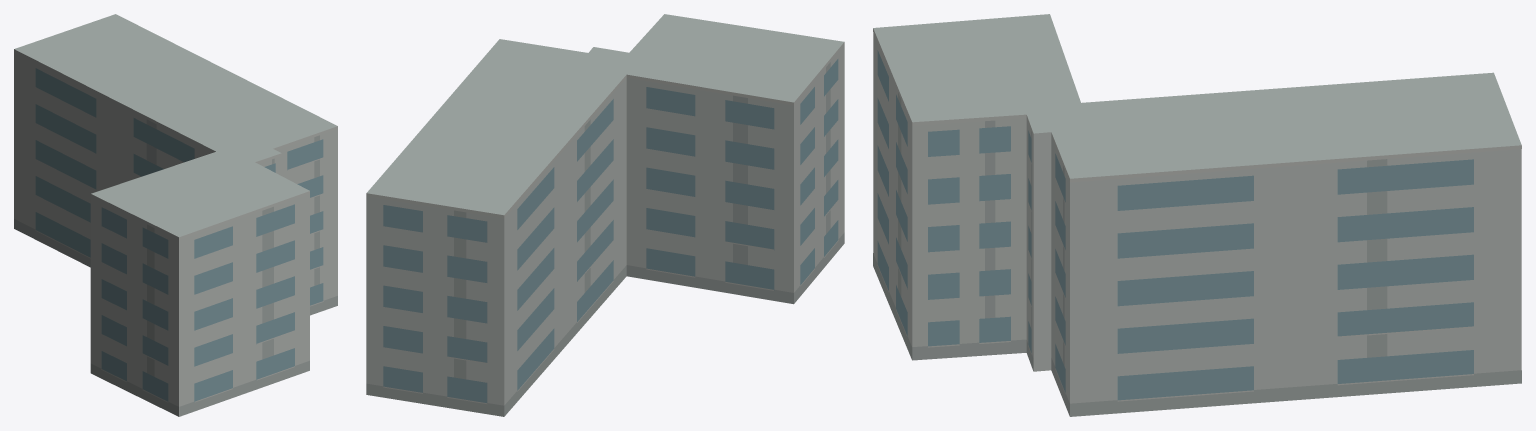
The model's file is survey-upis-32518405.glb.
3 views of the same model, side by side, from view 1: azimuth 30°, elevation 25°; view 2: azimuth 150°, elevation 25°; view 3: azimuth 270°, elevation 25° (orthographic). The views are drawn at different scales.
Parts seen in each view (by area): view 1: survey-upis-32518405.tmp; view 2: survey-upis-32518405.tmp; view 3: survey-upis-32518405.tmp.
Boxes of the visible parts, x1,y1,x2,y2 form: survey-upis-32518405.tmp: (14, 14, 337, 416); survey-upis-32518405.tmp: (366, 14, 844, 416); survey-upis-32518405.tmp: (873, 14, 1521, 416).
Bounding box in the file's own units: 22.63 × 15.25 × 37.65.
